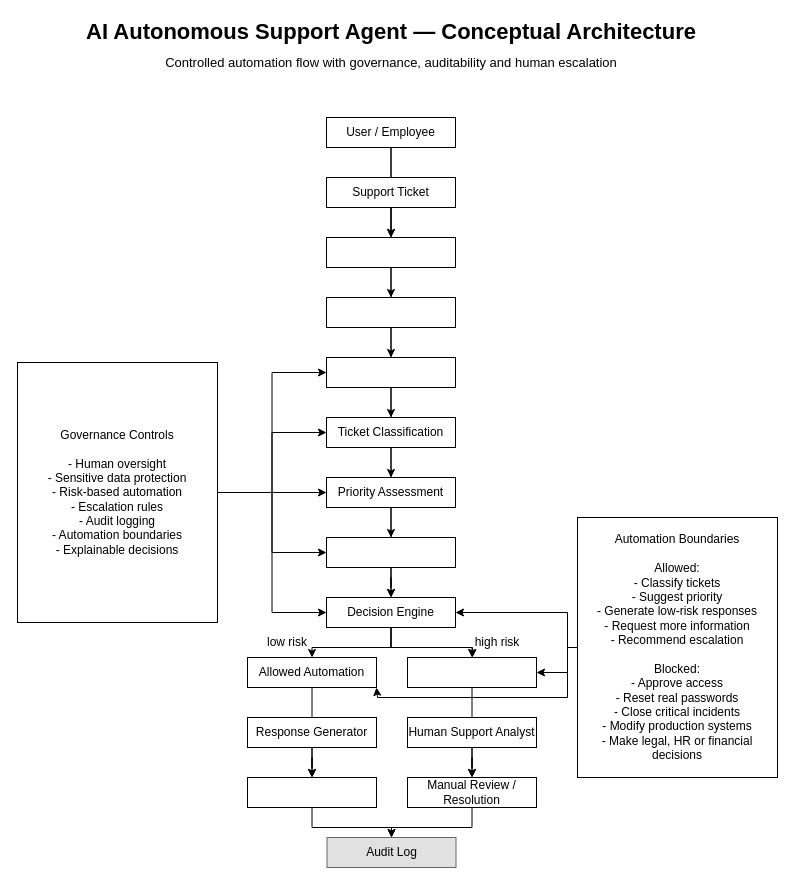
This 795x885 diagram has some shape labels left out. Here are the shapes that lost their labels. From the top down, the box of each, then its label:
(326, 236, 456, 268): Ticket Intake
(326, 296, 456, 328): Data Pre-Processing
(326, 356, 456, 388): Sensitive Data Check
(326, 536, 456, 568): Governance Guardrails
(406, 656, 536, 688): Human Escalation
(246, 776, 376, 808): Automated Response
